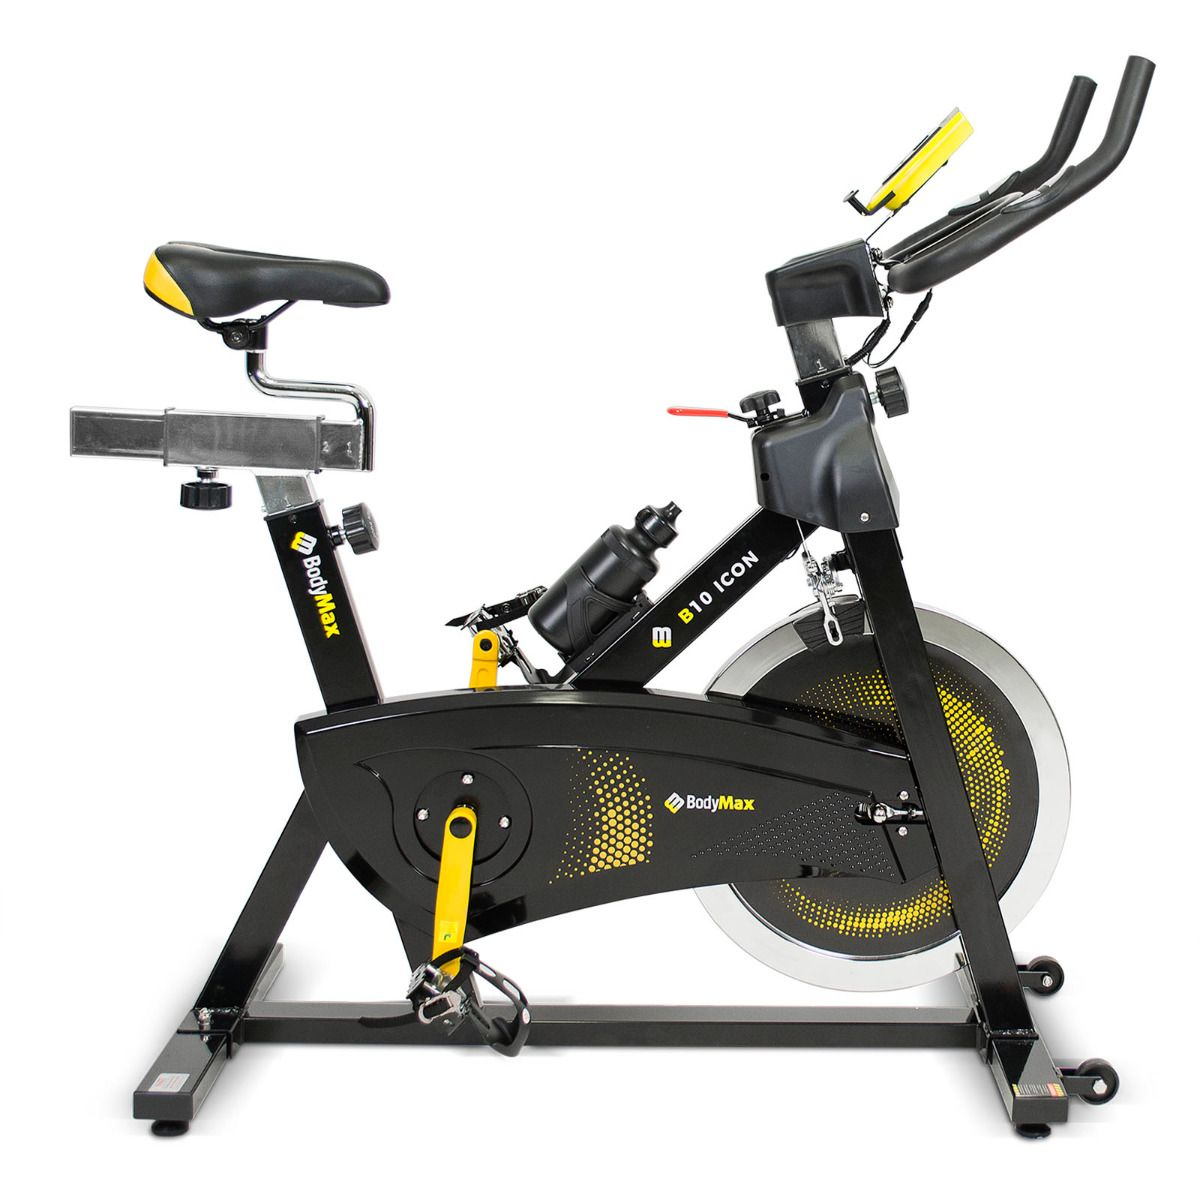gym_bike: (65, 65, 1140, 1138)
